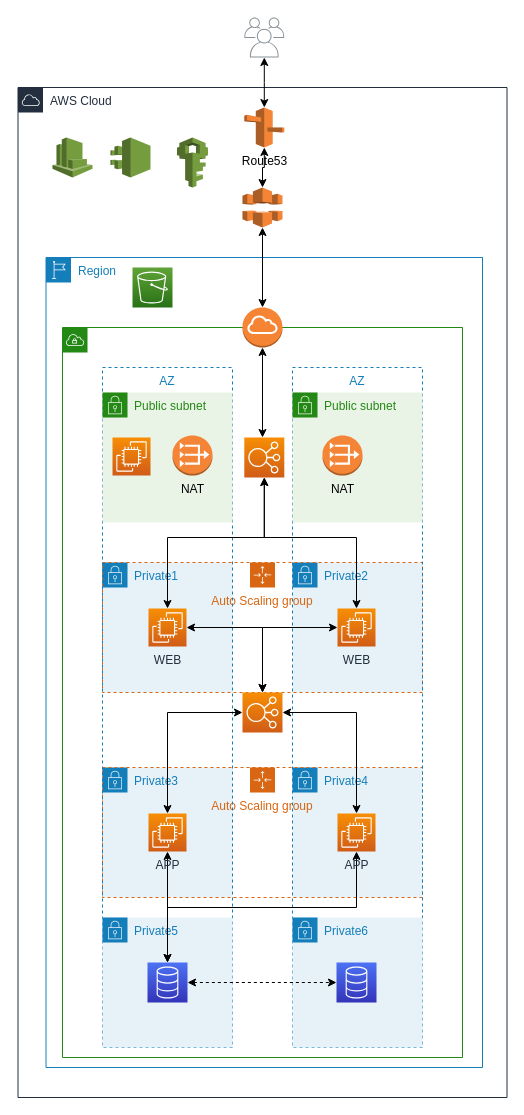
Some shapes in this 524 by 1115 pixel diagram are drawn without their labels. The shapes that lost their labels are listed below. From the top down, each one's box as (x1, y1, x2, y2) in pixels, then its label:
(244, 17, 284, 57): users
(52, 136, 92, 178): cloudwatch
(110, 136, 150, 178): cloudtrail
(176, 136, 208, 188): IAM
(242, 186, 282, 228): cloudfront
(132, 266, 172, 308): S3
(112, 436, 150, 476): Bastion
(243, 436, 284, 478): ALB
(62, 326, 462, 1058): VPC
(242, 692, 282, 732): NLB
